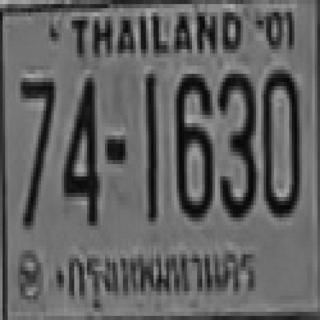N00: (262, 66, 298, 213)
N01: (143, 72, 156, 220)
N03: (218, 72, 253, 215)
N04: (61, 74, 97, 222)
N06: (174, 72, 212, 215)
N07: (18, 74, 54, 226)
P04: (61, 244, 265, 314)
